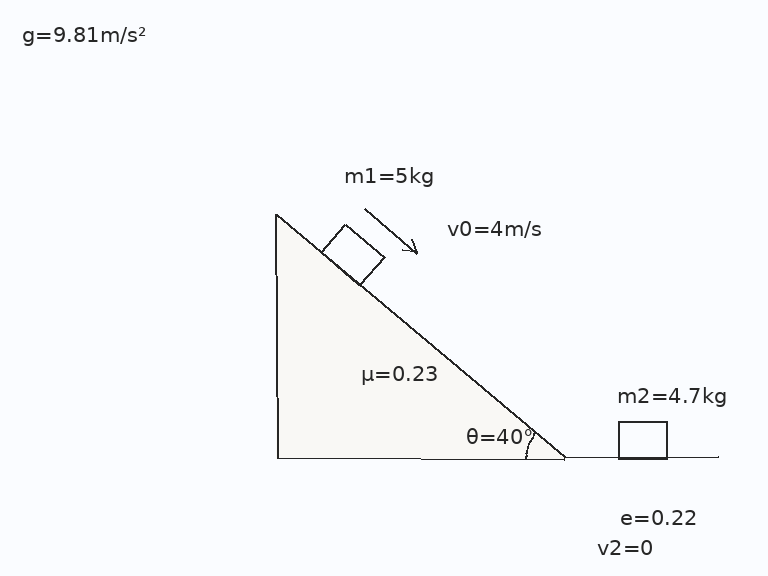block: (319, 221, 386, 287), (616, 420, 668, 460)
ramp: (274, 213, 568, 460)
